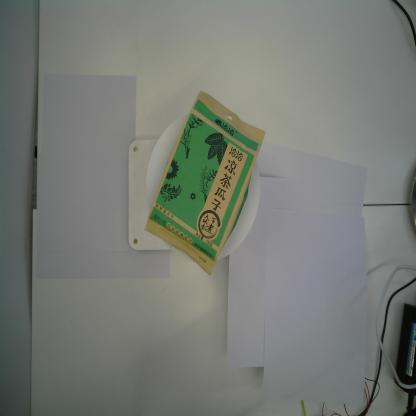Dried Food: (144, 89, 266, 277)
